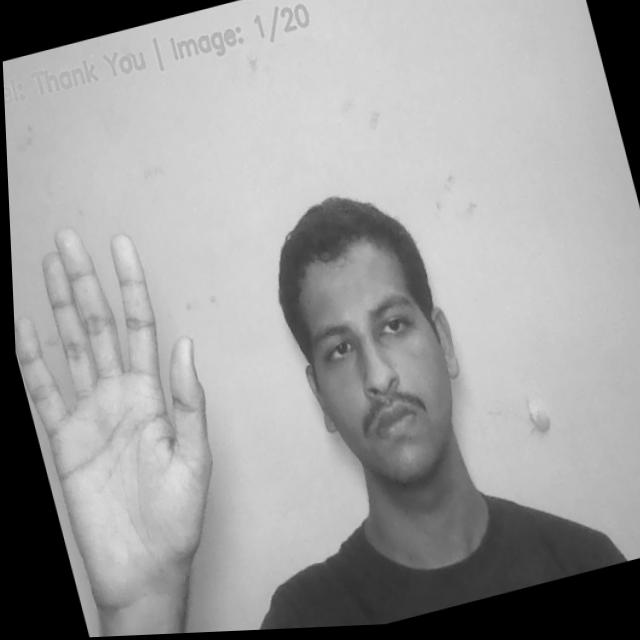Hello: (7, 202, 252, 629)
